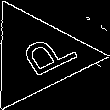P_SW: (2, 27, 73, 84)
